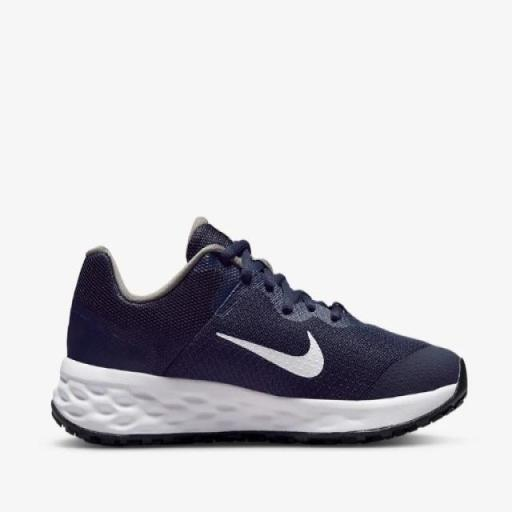Nike: (205, 325, 331, 382)
